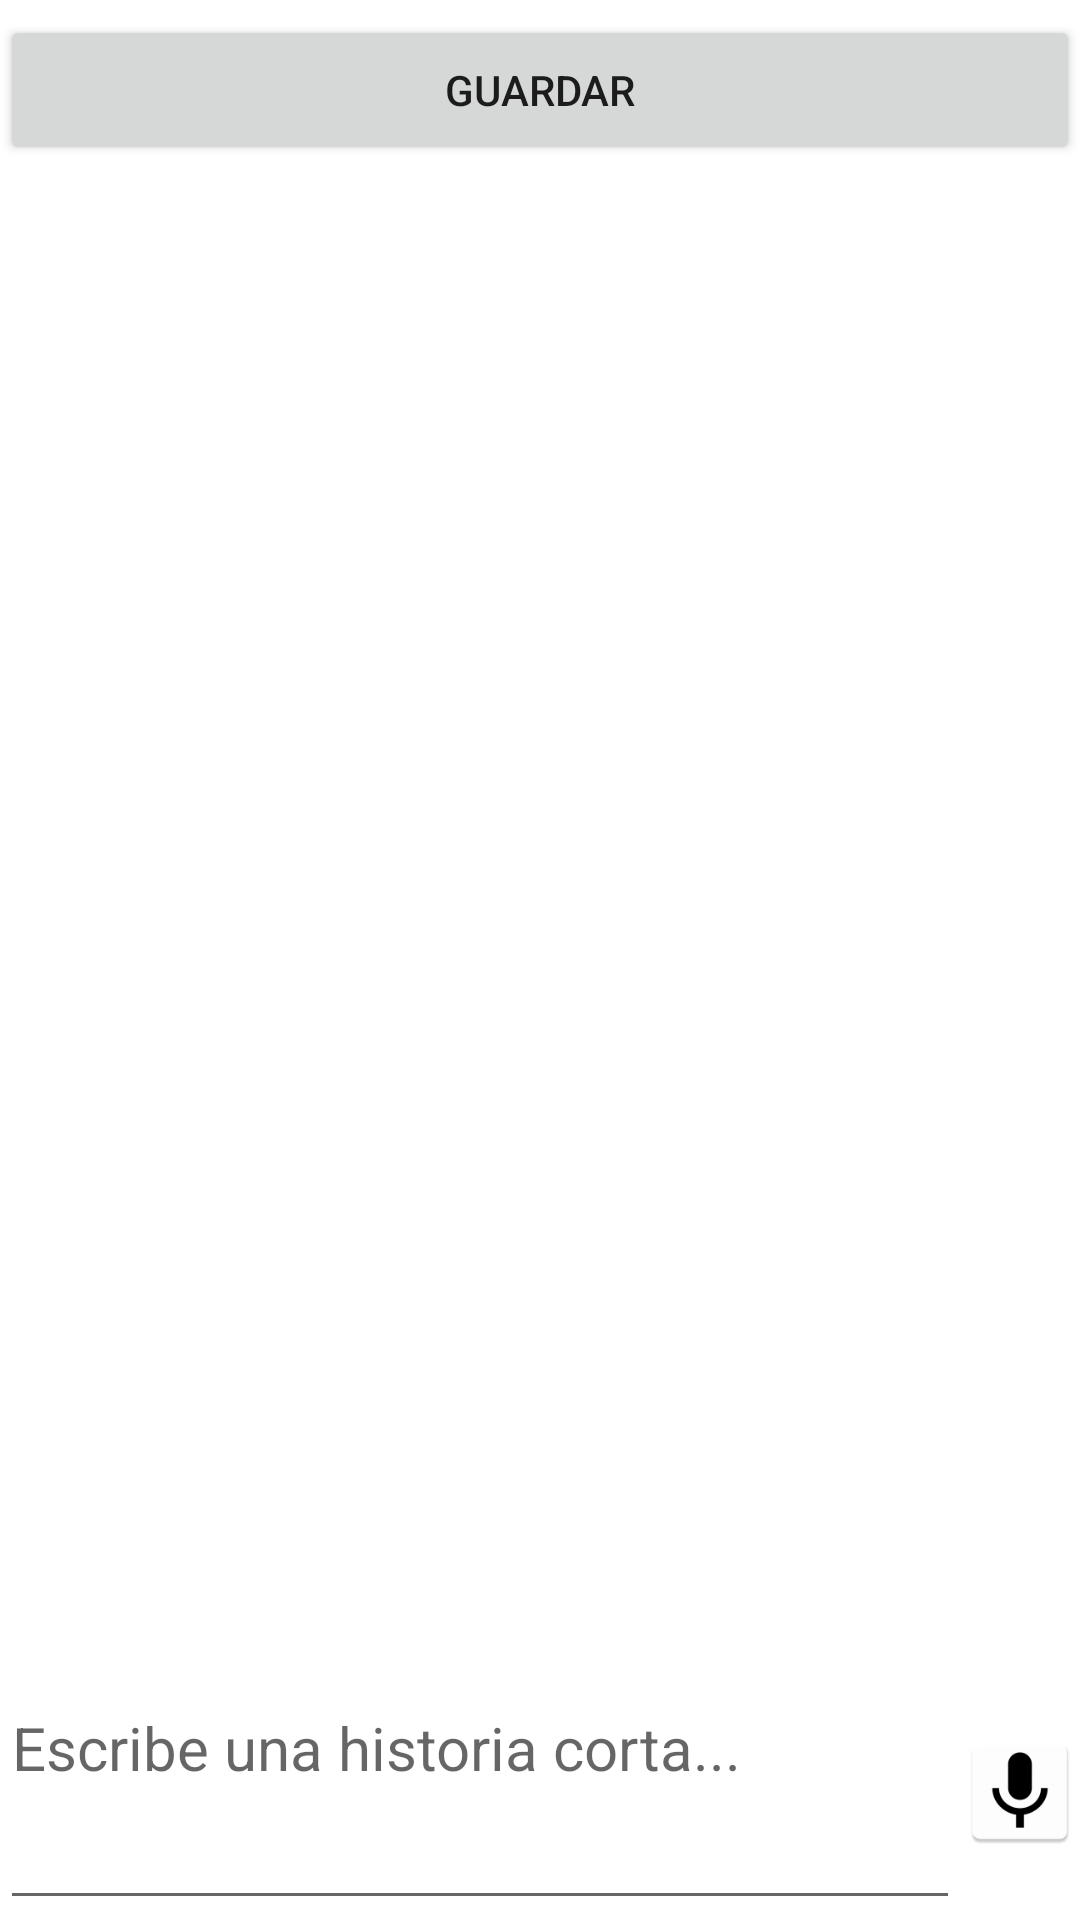

Named icons in this screenshot (1080 × 1920) and their centers, (x,y):
mic: (1020,1797)
